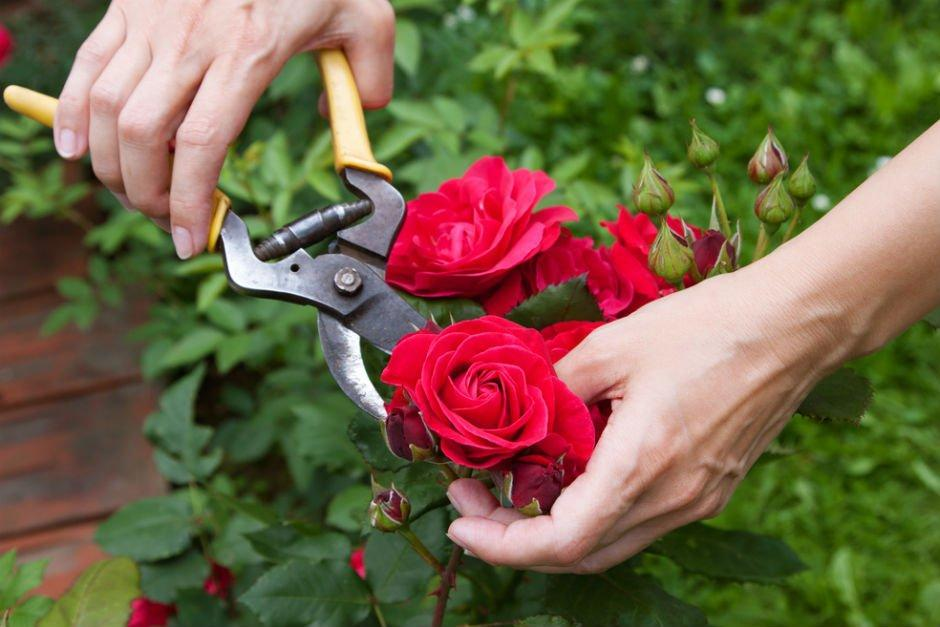Rose: (379, 306, 614, 510), (393, 135, 574, 310), (581, 169, 736, 315)
